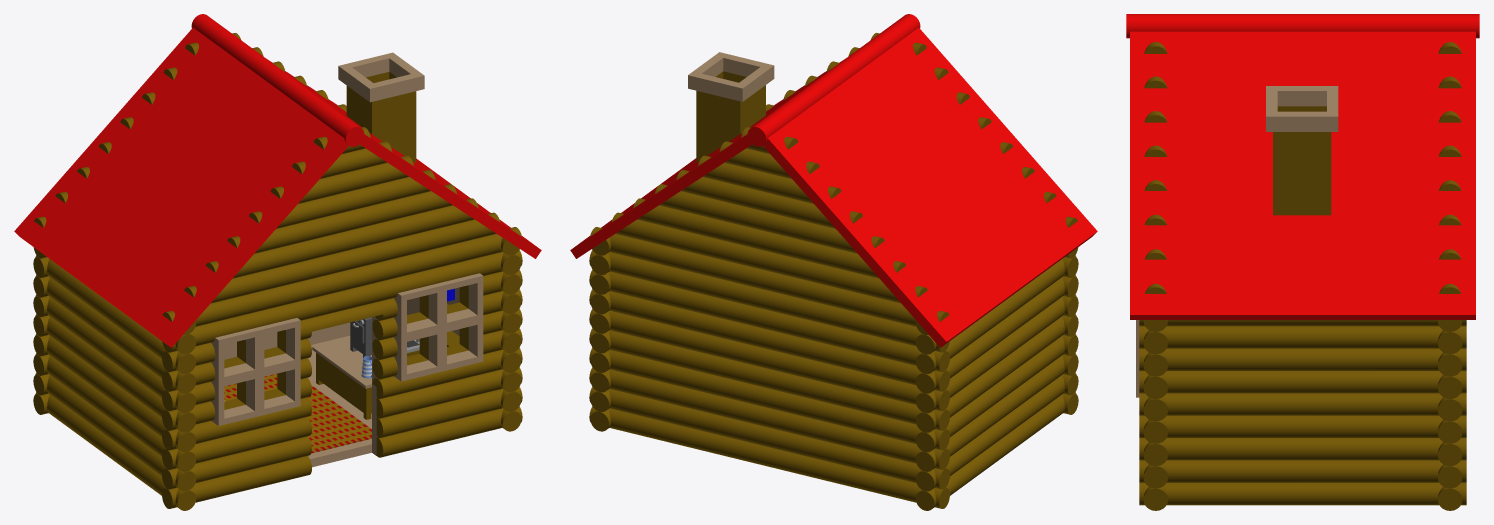
Rendered from Player House.fbx.
3 renders of one model, left to right at view 1: azimuth 30°, elevation 25°; view 2: azimuth 150°, elevation 25°; view 3: azimuth 270°, elevation 25°, orthographic. The views are drawn at different scales.
Visible parts, largest first — view 1: polySurface21, polySurface276, polySurface277, polySurface258, polySurface257, polySurface50, polySurface268, polySurface270, polySurface269, polySurface51, polySurface242, polySurface20 (+23 smaller); view 2: polySurface21, polySurface30, polySurface29, polySurface32, polySurface23, polySurface26, polySurface25, polySurface31, polySurface28, polySurface24, polySurface27, polySurface33 (+17 smaller); view 3: polySurface22, polySurface63, polySurface59, polySurface65, polySurface57, polySurface60, polySurface64, polySurface66, polySurface62, polySurface20, polySurface273, polySurface271 (+17 smaller).
Part boxes in pixels (box(x1,y1,x2,y2)): polySurface21: box(14, 27, 348, 347); polySurface276: box(393, 273, 483, 381); polySurface277: box(211, 318, 300, 425); polySurface258: box(162, 227, 521, 326); polySurface257: box(162, 250, 522, 352); polySurface50: box(184, 212, 500, 303); polySurface268: box(162, 367, 522, 469); polySurface270: box(162, 406, 522, 508); polySurface269: box(162, 387, 522, 489); polySurface51: box(205, 198, 478, 278); polySurface242: box(162, 348, 522, 450); polySurface20: box(191, 14, 364, 146); polySurface21: box(763, 27, 1097, 347); polySurface30: box(589, 289, 949, 391); polySurface29: box(589, 269, 949, 372); polySurface32: box(589, 367, 949, 469); polySurface23: box(589, 328, 949, 430); polySurface26: box(589, 406, 949, 508); polySurface25: box(589, 309, 949, 411); polySurface31: box(589, 387, 949, 489); polySurface28: box(589, 348, 949, 450); polySurface24: box(589, 250, 949, 352); polySurface27: box(590, 227, 949, 326); polySurface33: box(611, 212, 927, 303); polySurface22: box(1130, 31, 1475, 319); polySurface63: box(1139, 326, 1466, 348); polySurface59: box(1139, 371, 1466, 393); polySurface65: box(1139, 460, 1466, 482); polySurface57: box(1139, 393, 1466, 415); polySurface60: box(1139, 483, 1466, 505); polySurface64: box(1139, 348, 1466, 370); polySurface66: box(1139, 438, 1466, 460); polySurface62: box(1139, 415, 1466, 437); polySurface20: box(1126, 14, 1479, 38); polySurface273: box(1273, 132, 1331, 215); polySurface271: box(1266, 86, 1338, 131).
Size of the model in its own units: 35.01 by 30.93 by 24.85.
